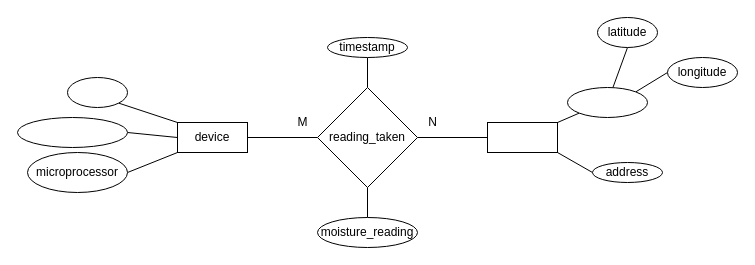
Image size: 755x265. Some labels were removed from this diagram. The box of each missing label's shape, as (x1, y1, x2, y2) in pixels:
coordinates: (566, 86, 648, 118)
device_id: (66, 76, 128, 108)
location: (486, 122, 558, 152)
software_version: (16, 116, 128, 148)
